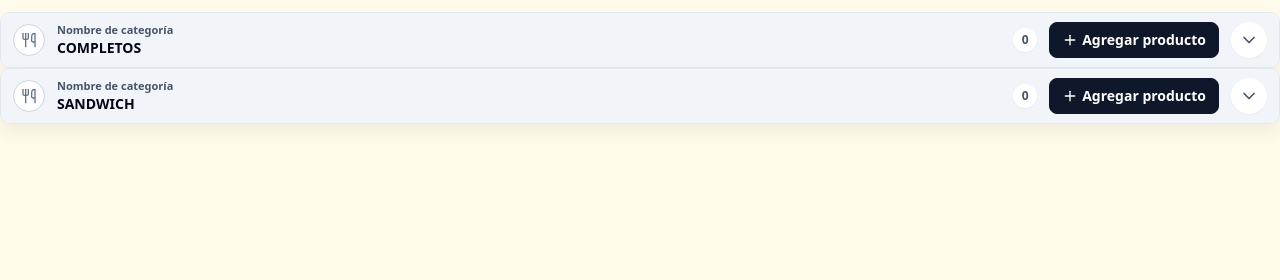
acordeones independientes › permite mantener varias categorías abiertas
Click the button named "Abrir Completos" at (1249, 40), box [1231, 22, 1267, 58]
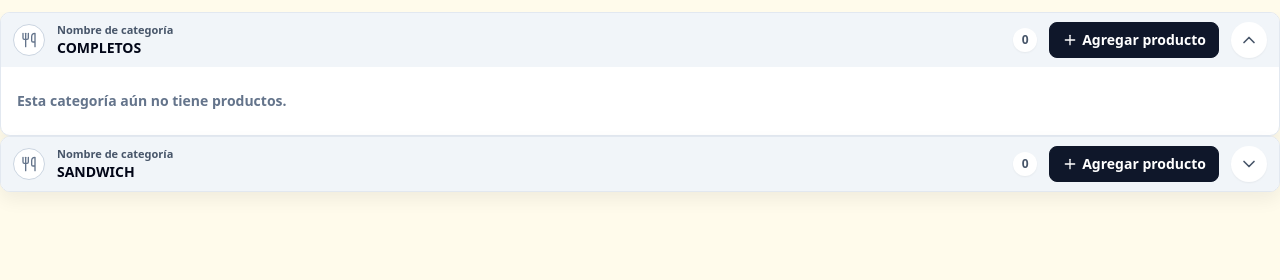
Click the button named "Abrir Sandwich" at (1249, 164), box [1231, 146, 1267, 182]
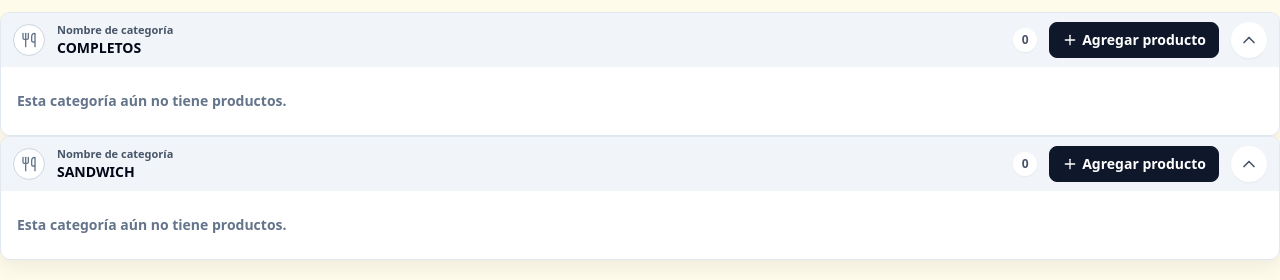
Expected: the button named "Cerrar Completos" is shown, [1231, 22, 1267, 58]
Expected: the button named "Cerrar Sandwich" is shown, [1231, 146, 1267, 182]
